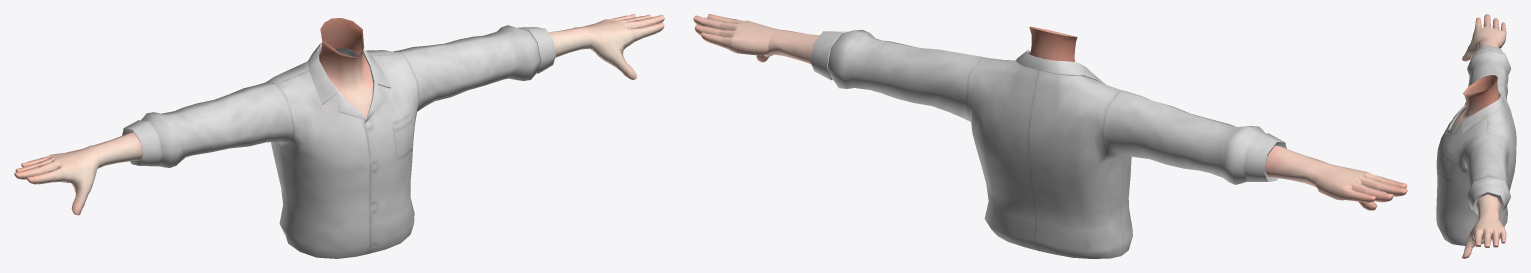
Rendered from tr0840_00_upb00.gltf.
3 renders of one model, left to right at view 1: azimuth 30°, elevation 25°; view 2: azimuth 150°, elevation 25°; view 3: azimuth 270°, elevation 25°, orthographic. The views are drawn at different scales.
Visible parts, largest first — view 1: upb00_upperbody_mesh_shape:upperbody00, upb00_upperbodyskin_mesh_shape:upperbody00_skin; view 2: upb00_upperbody_mesh_shape:upperbody00, upb00_upperbodyskin_mesh_shape:upperbody00_skin; view 3: upb00_upperbody_mesh_shape:upperbody00, upb00_upperbodyskin_mesh_shape:upperbody00_skin.
Boxes of the visible parts, x1,y1,x2,y2 form: upb00_upperbody_mesh_shape:upperbody00: [122, 25, 555, 258]; upb00_upperbodyskin_mesh_shape:upperbody00_skin: [14, 14, 664, 215]; upb00_upperbody_mesh_shape:upperbody00: [810, 29, 1286, 258]; upb00_upperbodyskin_mesh_shape:upperbody00_skin: [693, 14, 1407, 210]; upb00_upperbody_mesh_shape:upperbody00: [1436, 45, 1516, 245]; upb00_upperbodyskin_mesh_shape:upperbody00_skin: [1451, 14, 1506, 258].
Size of what is drawn, in the model's own units: 1.63 by 0.4967 by 0.2399.
Materials: 2 (2 with a texture image).
